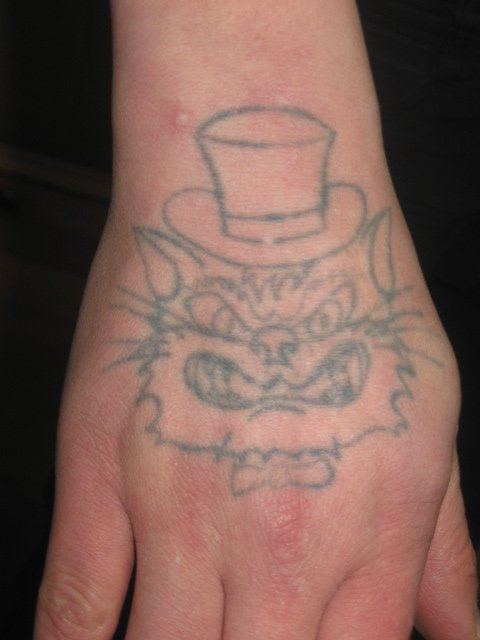tatu8_kot: (110, 106, 442, 500)
